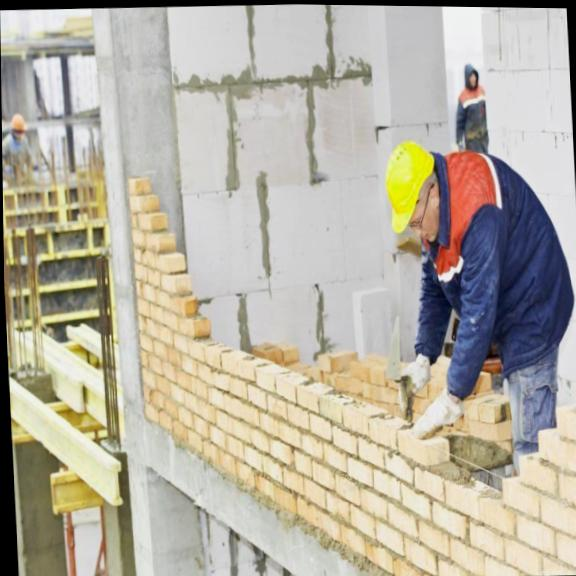no_safety_vest: (439, 146, 567, 350)
